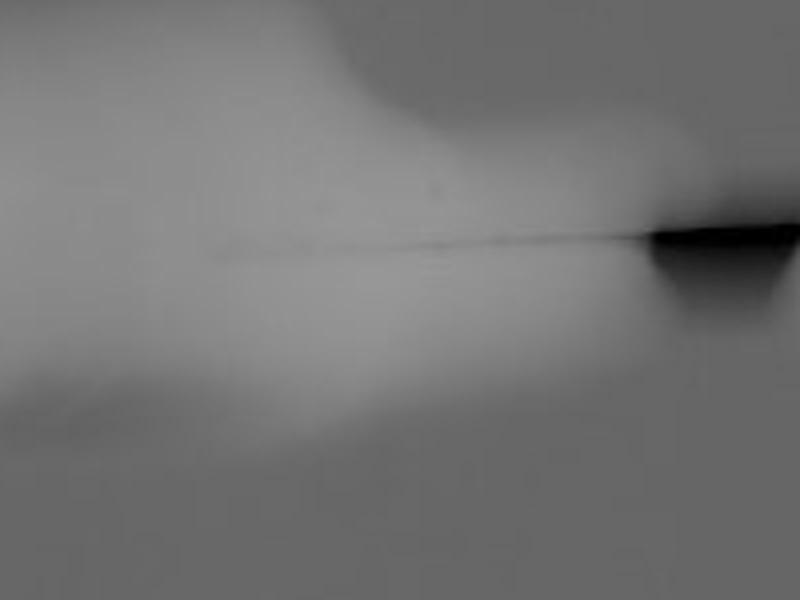defect: (641, 227, 796, 311)
